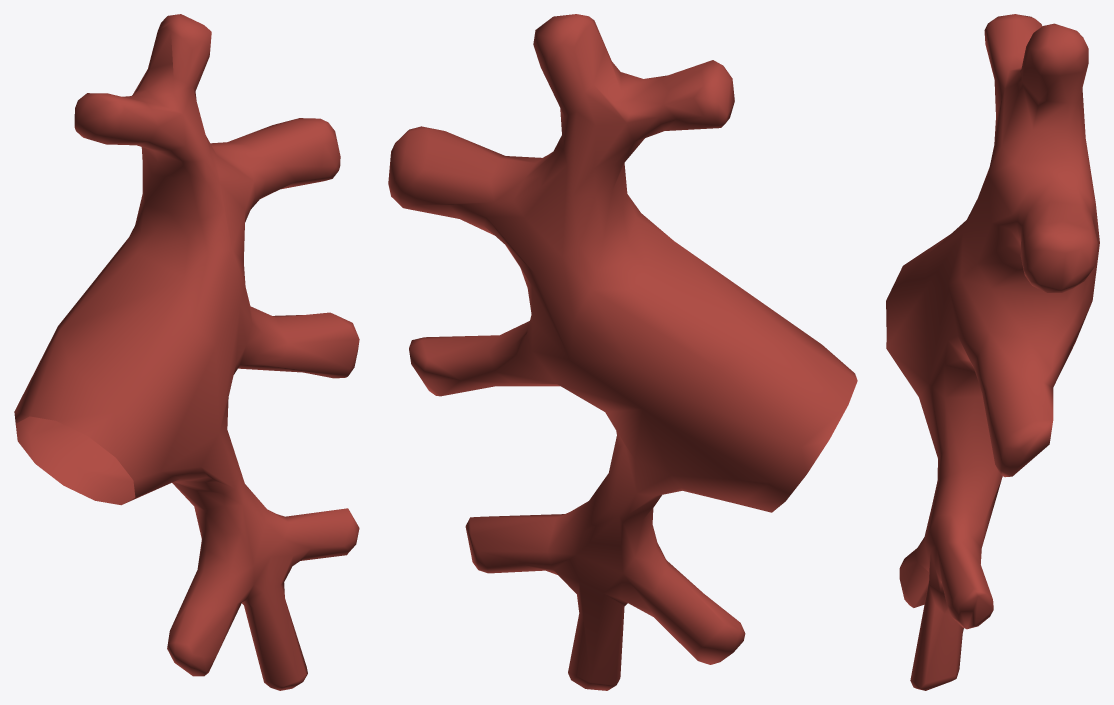
File: visceras-renal-pelvis-l.glb
3 renders of one model, left to right at view 1: azimuth 30°, elevation 25°; view 2: azimuth 150°, elevation 25°; view 3: azimuth 270°, elevation 25°, orthographic. The views are drawn at different scales.
Visible parts, largest first — view 1: Renal pelvis.l; view 2: Renal pelvis.l; view 3: Renal pelvis.l.
Part boxes in pixels (x1,y1,x2,y2): Renal pelvis.l: [14, 14, 359, 690]; Renal pelvis.l: [388, 14, 857, 690]; Renal pelvis.l: [886, 14, 1099, 690].
Size of the model in its own units: 0.0431 by 0.0743 by 0.0225.
